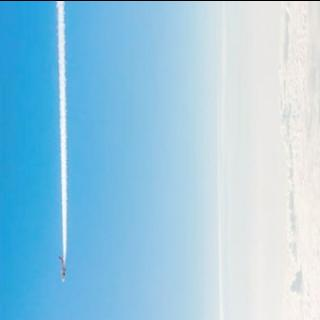Contrails: (26, 0, 188, 320)
